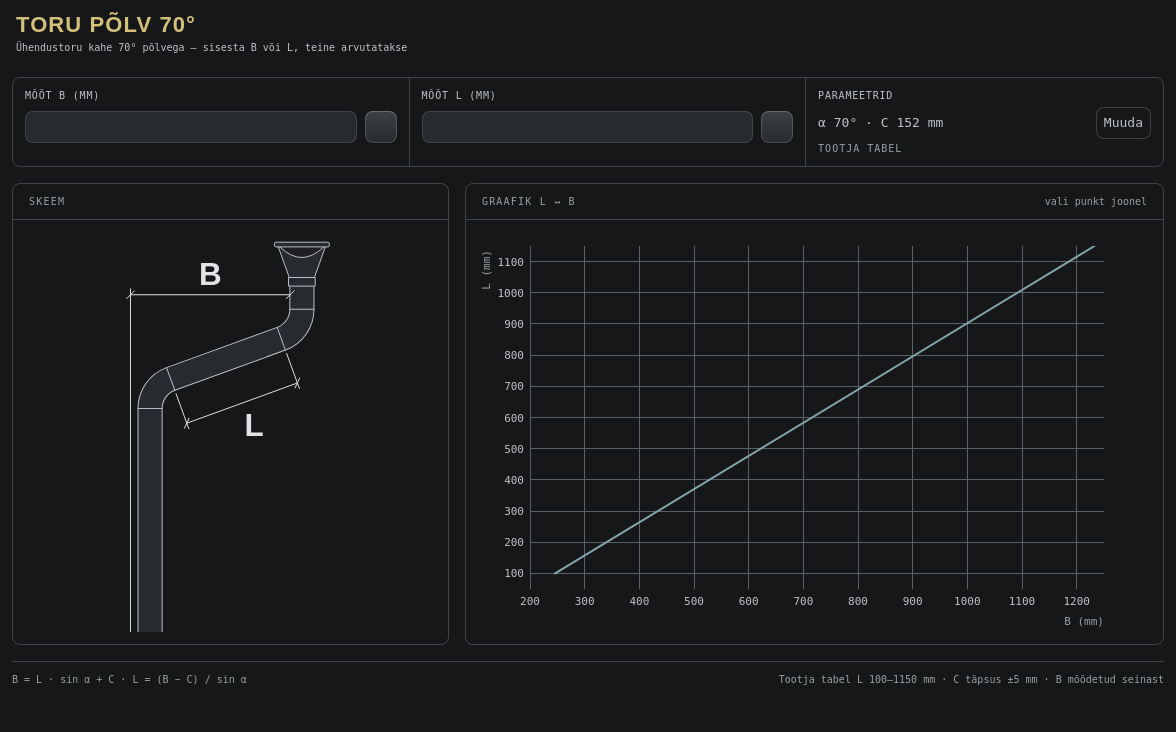
the Toru põlv 70° calculator › keeps the entered field fixed when α changes
Type "500" into the field with id "input-toru-L". click: coordinates (587, 126)
box: [422,110,753,142]
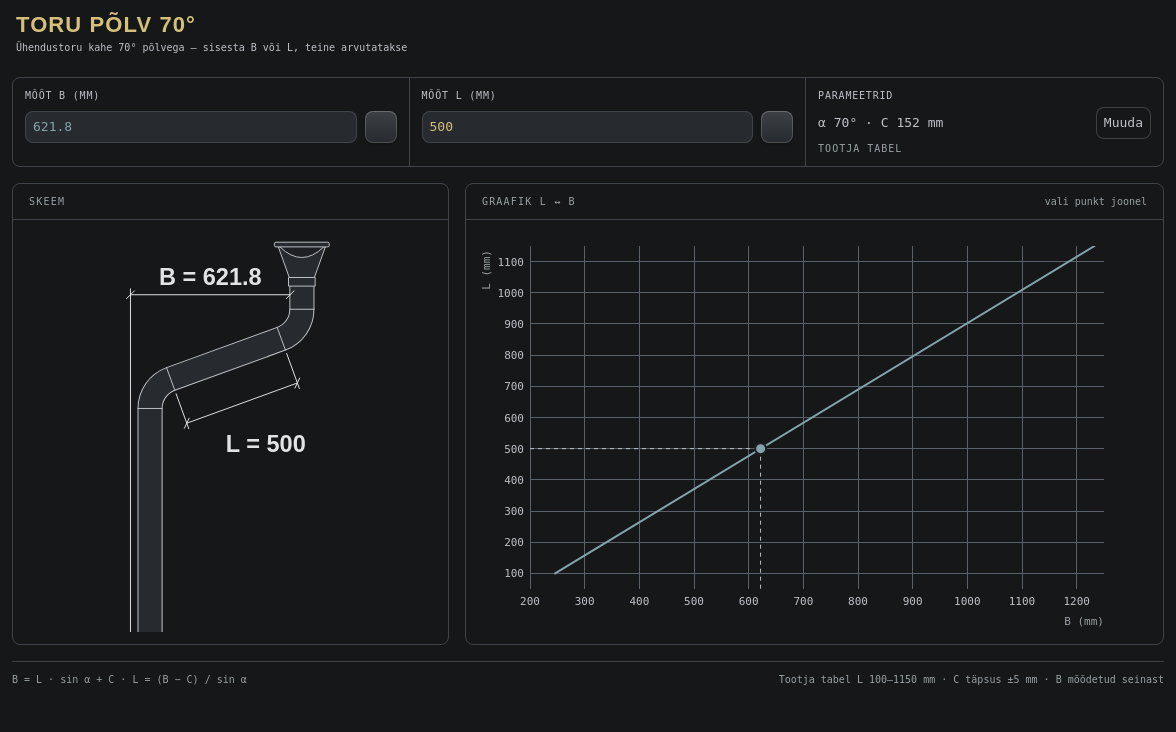
Click the button "Muuda". click: coordinates (1123, 122)
box: [1096,106,1151,138]
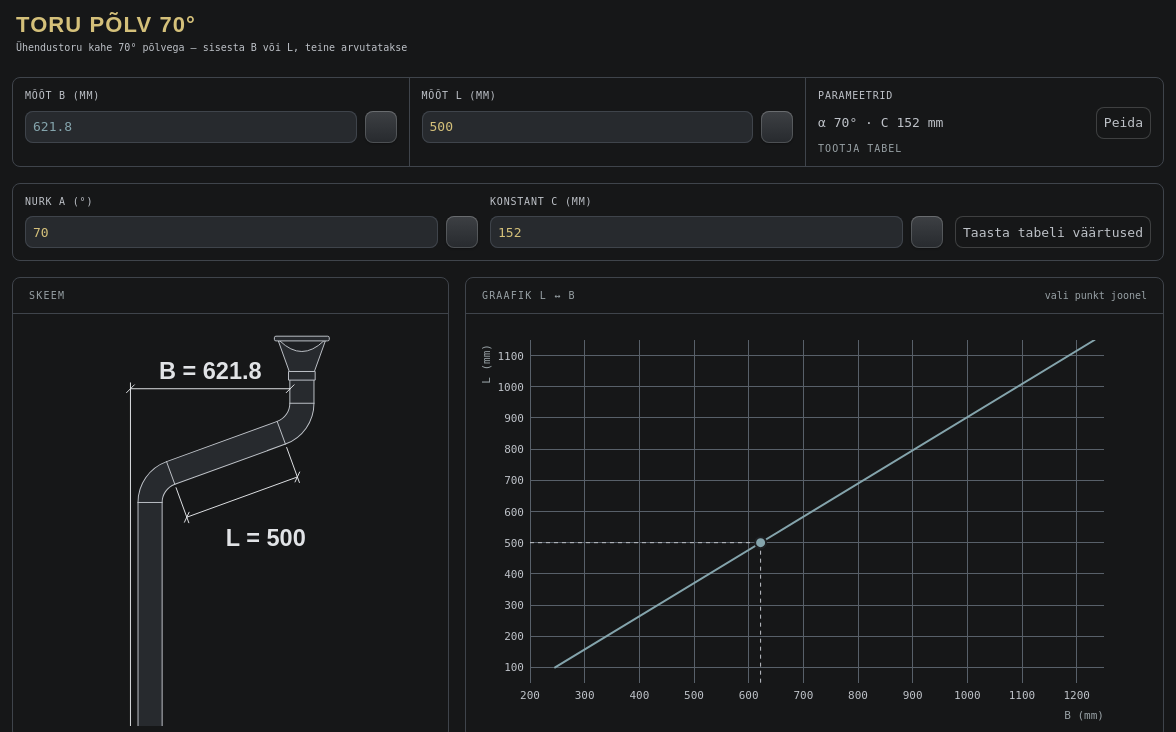
Replace the text in the field with id "input-toru-angle" with "60". click: coordinates (232, 232)
box: [25,216,438,248]
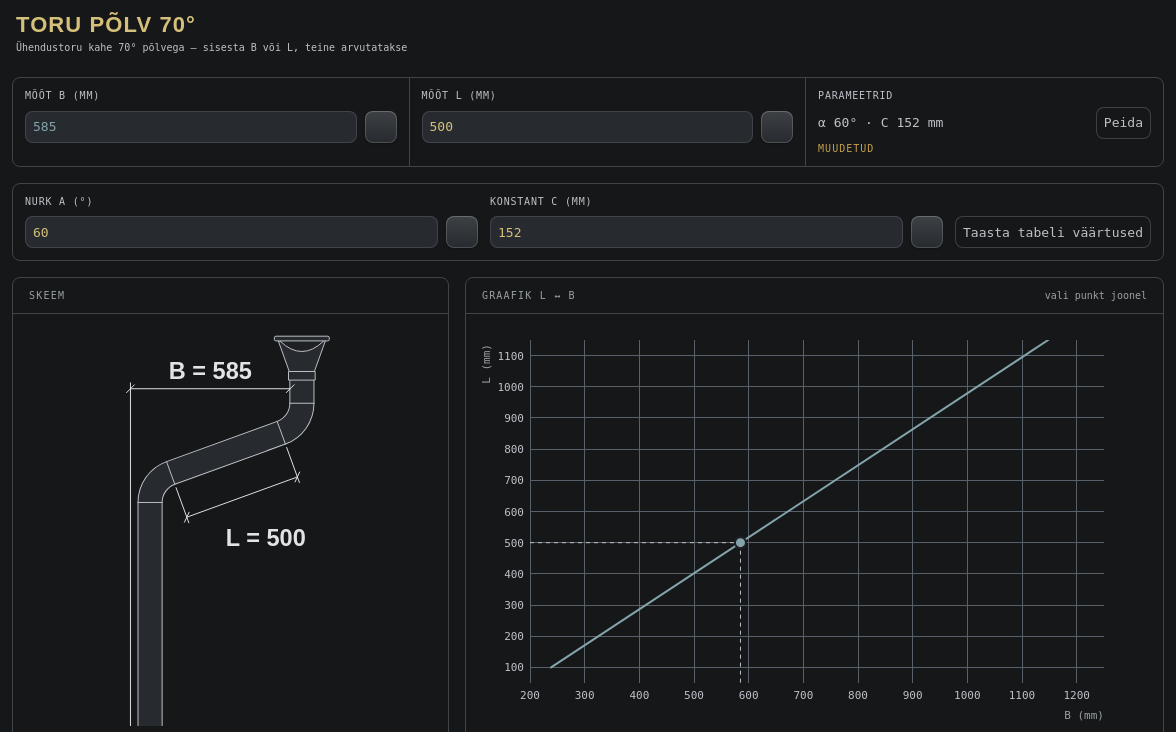
Expected: the field with id "input-toru-B" holds "585", [25,110,356,142]
Click the button "Taasta tabeli väärtused". click: coordinates (1053, 232)
box: [955,216,1151,248]
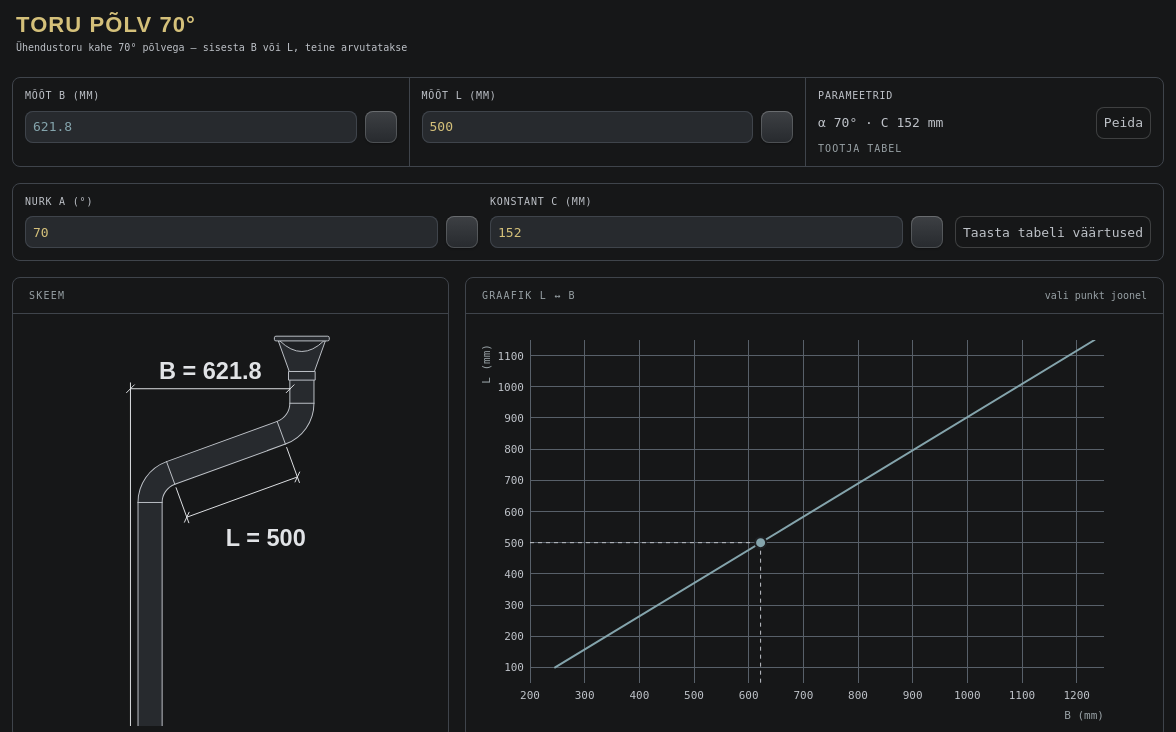
Expected: the field with id "input-toru-B" holds "621.8", [25,110,356,142]
